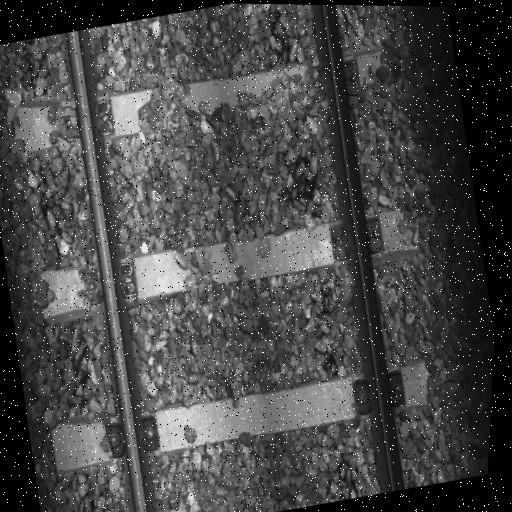sleeper: (41, 339, 459, 490), (32, 190, 437, 344), (4, 36, 413, 188)
